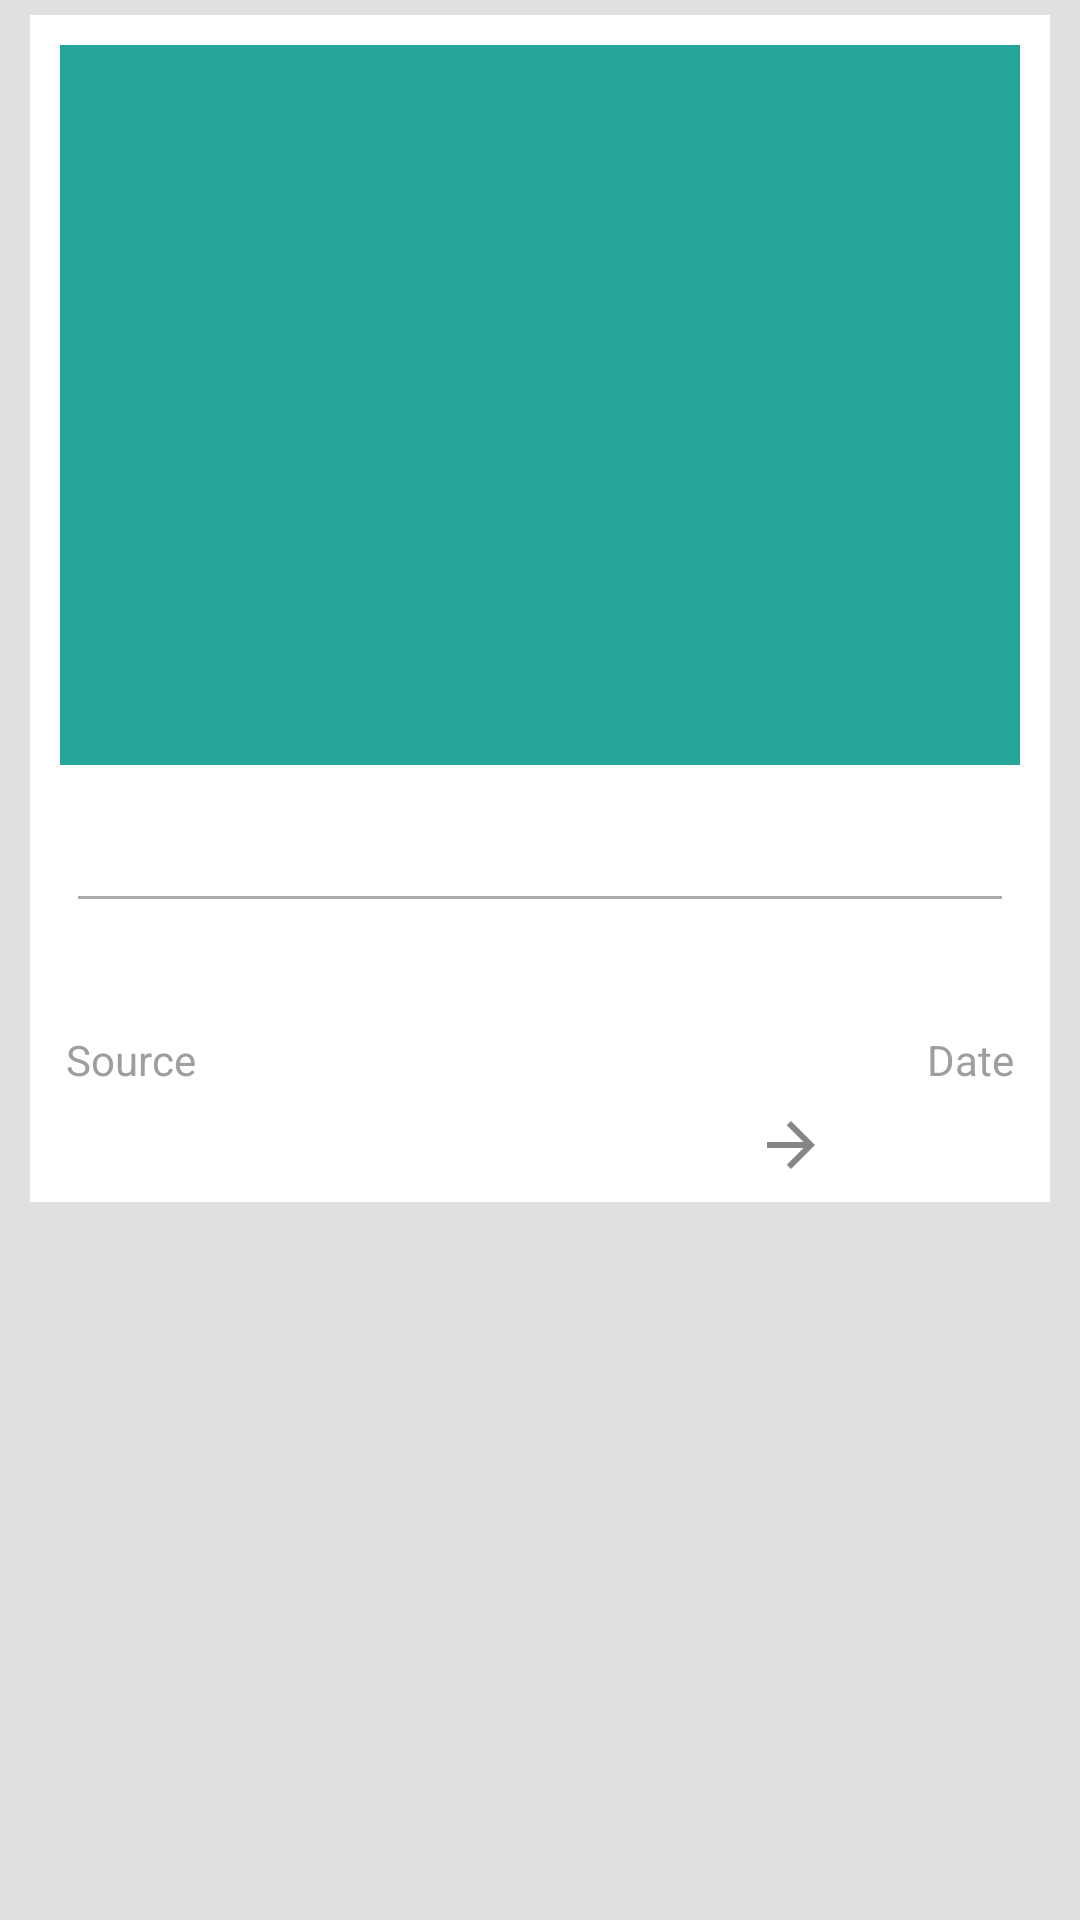

Point at icon controls on the screen. Image size 1080 x 1920, points as point (x, y).
navigate: point (791, 1145)
